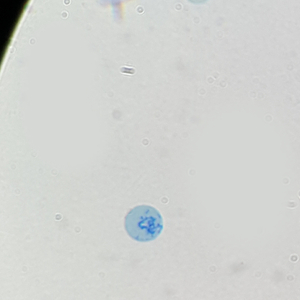aggregate reticulocyte: (123, 204, 164, 243)
